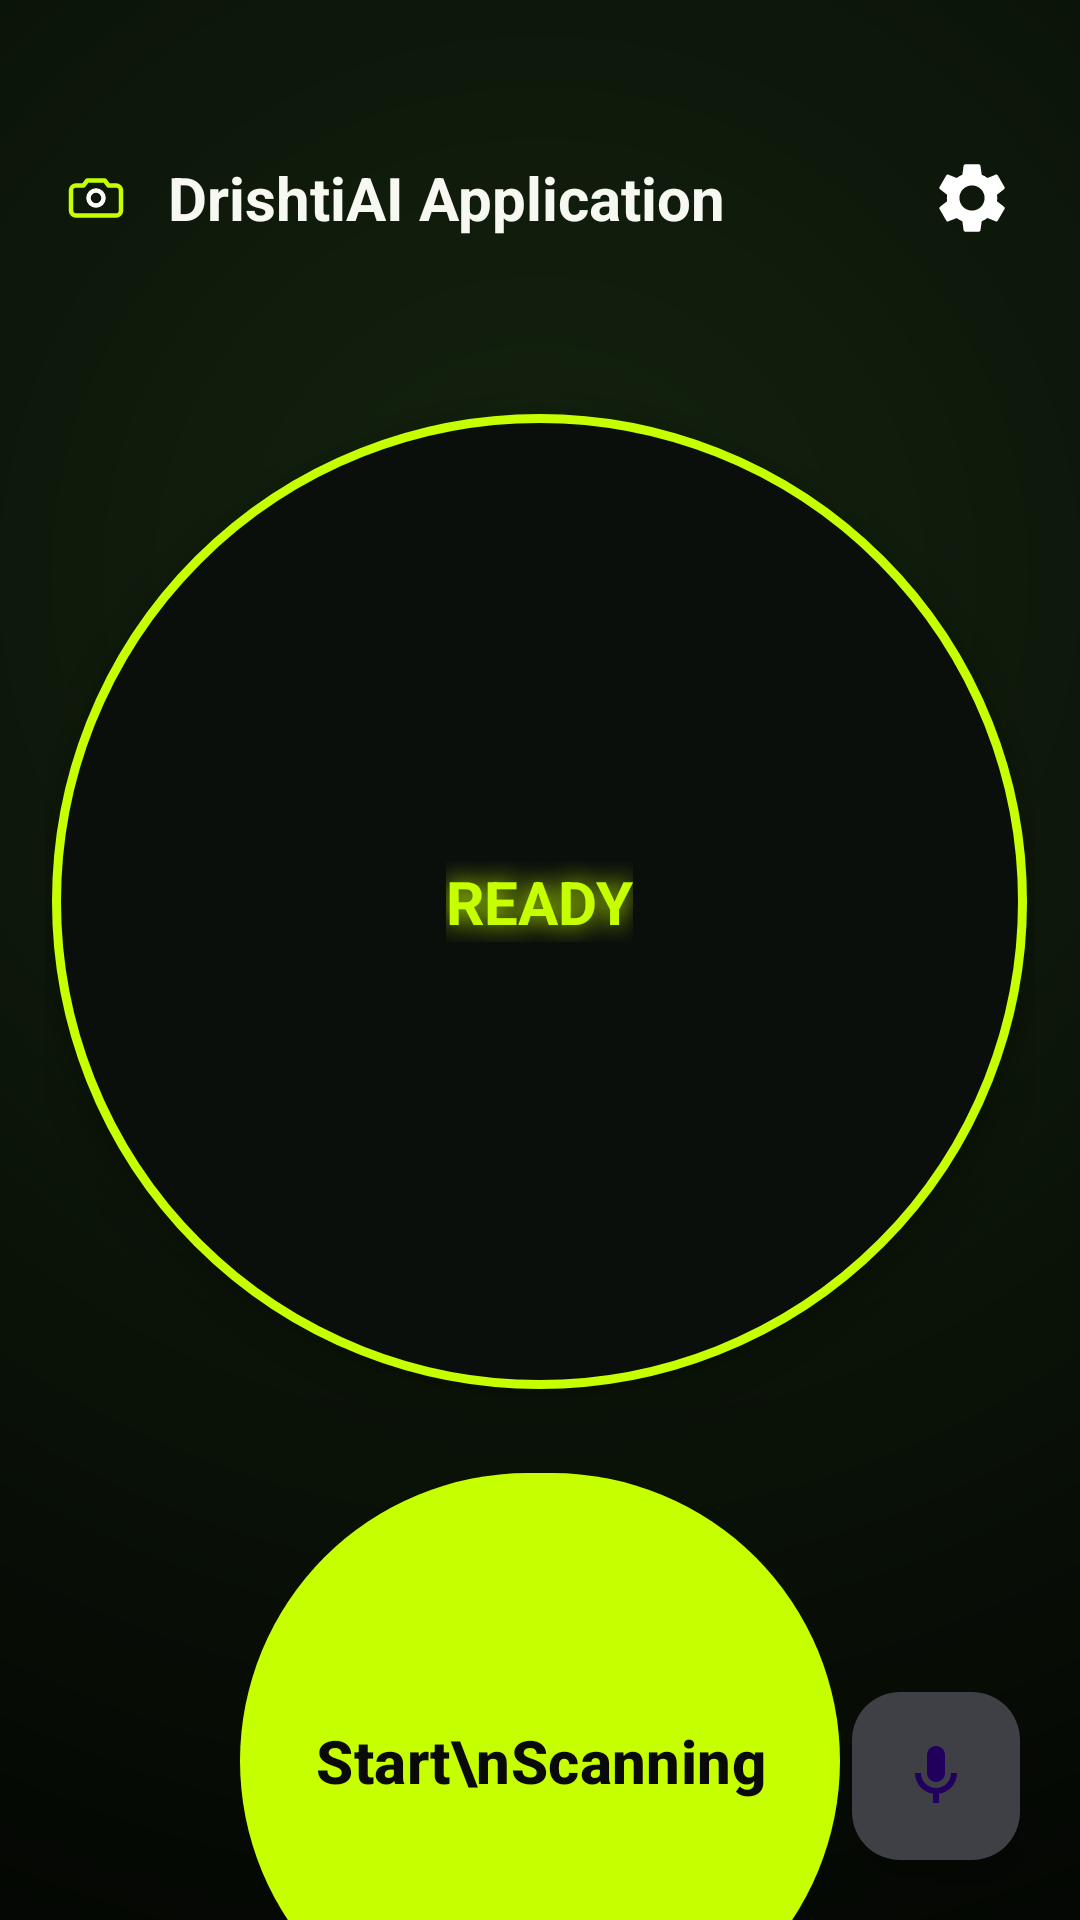

Icons on this 1080px×1920px Android screen, each with the point to tap as [x,y]:
camera: [96,198]
mic: [936,1776]
Settings: [972,198]
